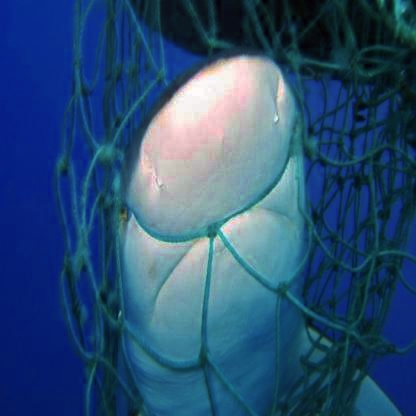net: (303, 13, 416, 357)
